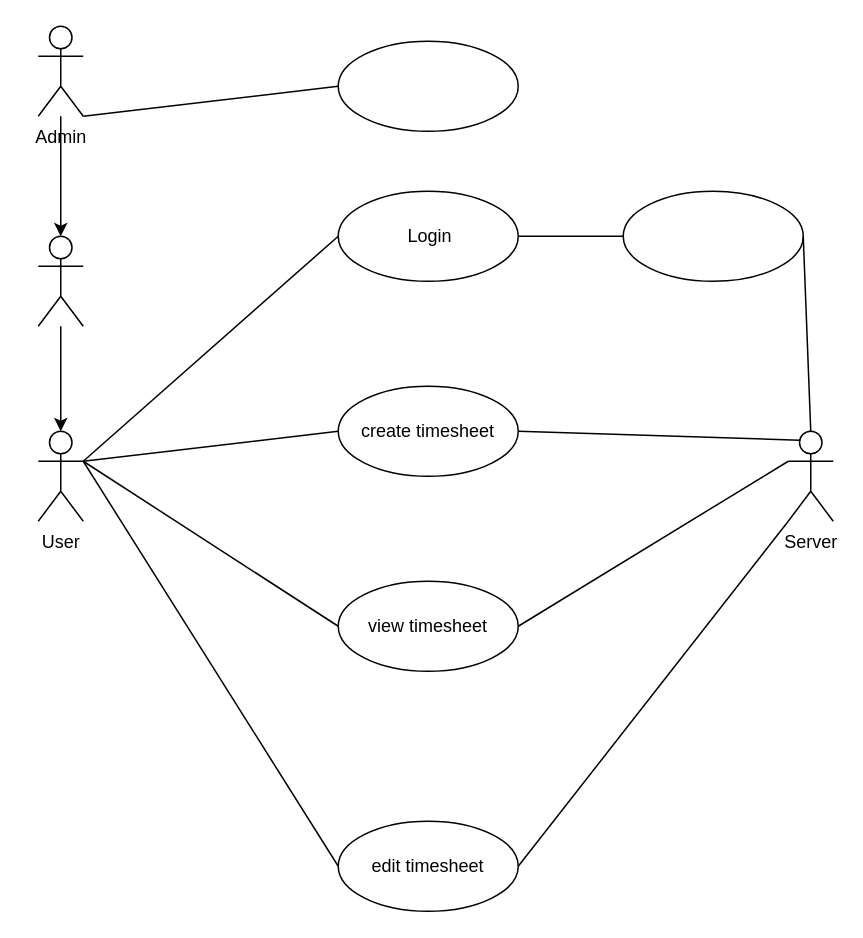
Image size: 863x938. Some labels were removed from this diagram. The shapes that lost their labels are listed below. From the top down, each one's box as (x1, y1, x2, y2) in pixels, then its label:
(337, 40, 518, 131): export timesheet
(622, 190, 803, 281): Authenticate
(37, 235, 83, 326): Manager
